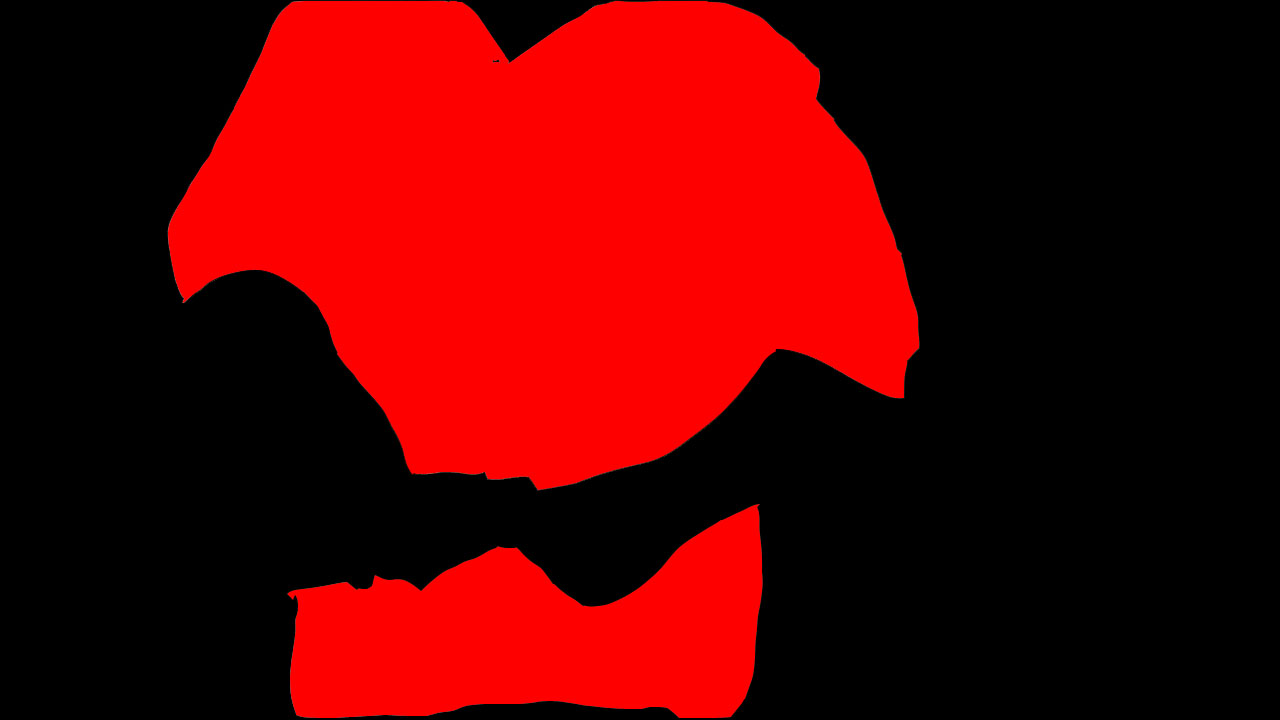uniforme_ifmt: (166, 1, 920, 720)
